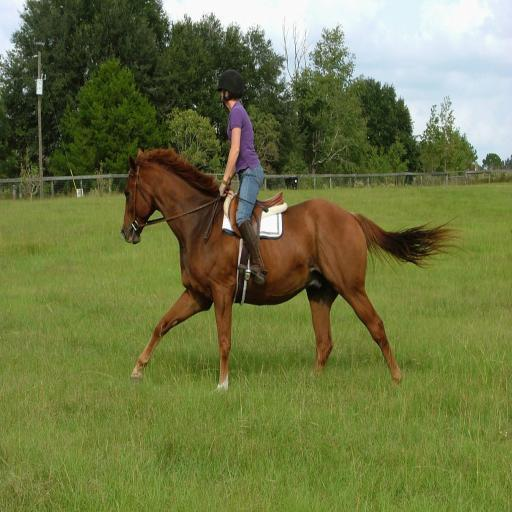horse: (120, 145, 466, 396)
